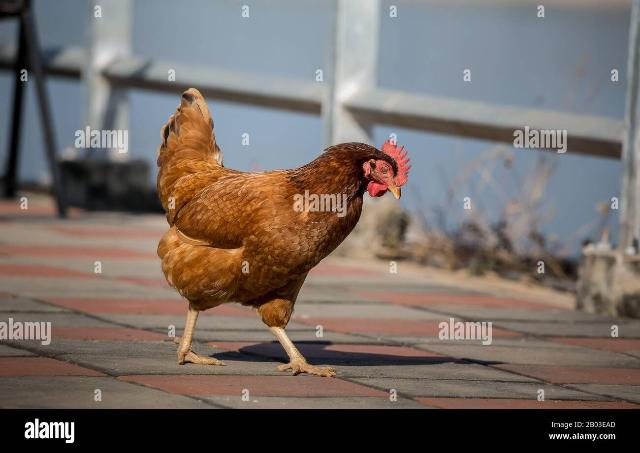Chicken: (158, 88, 412, 374)
